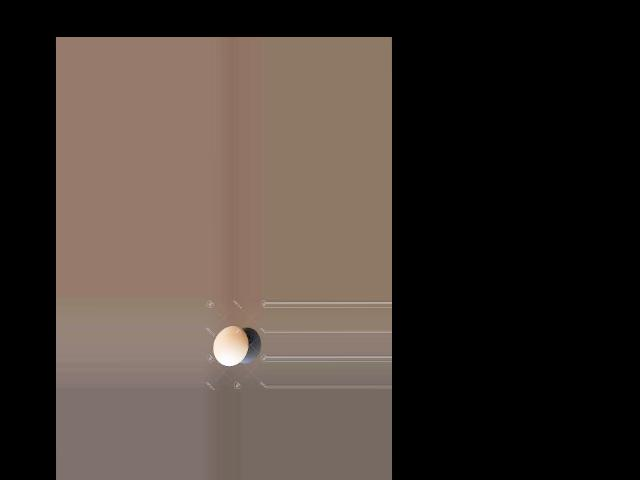egg: (213, 325, 249, 366)
